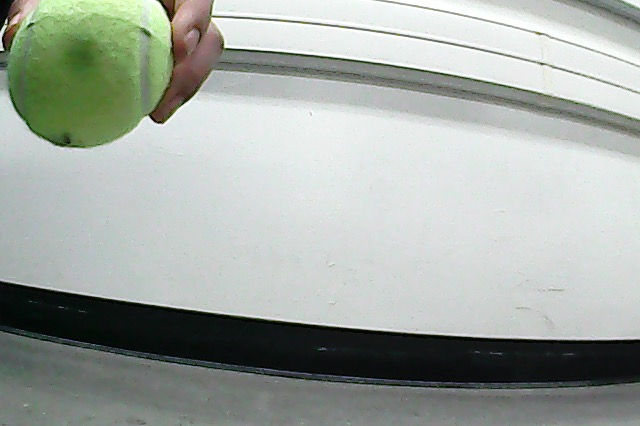ball: (8, 1, 173, 149)
